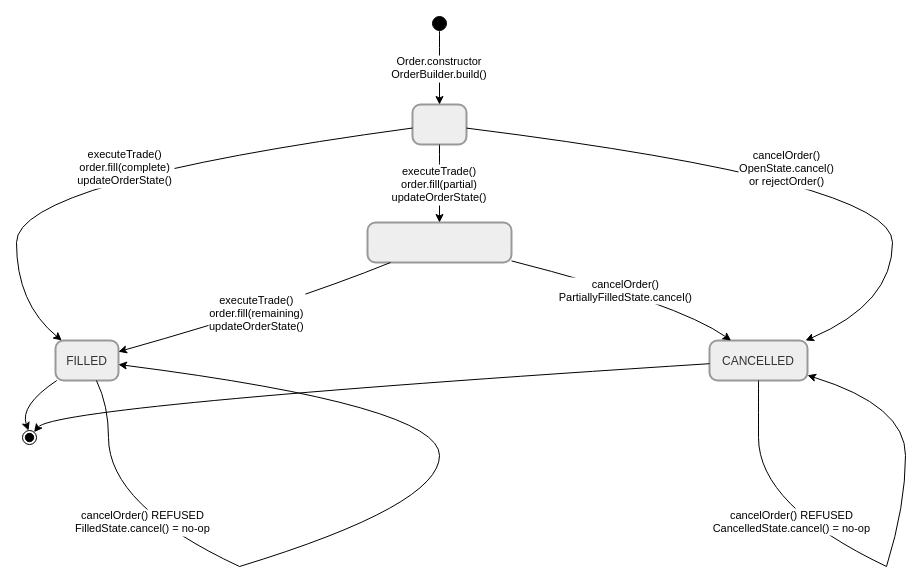
Some shapes in this 922 by 583 pixel diagram are drawn without their labels. Here are the shapes that lost their labels. From the top down, the box of each, then its label:
(411, 103, 467, 145): OPEN
(366, 221, 512, 263): PARTIALLY_FILLED
